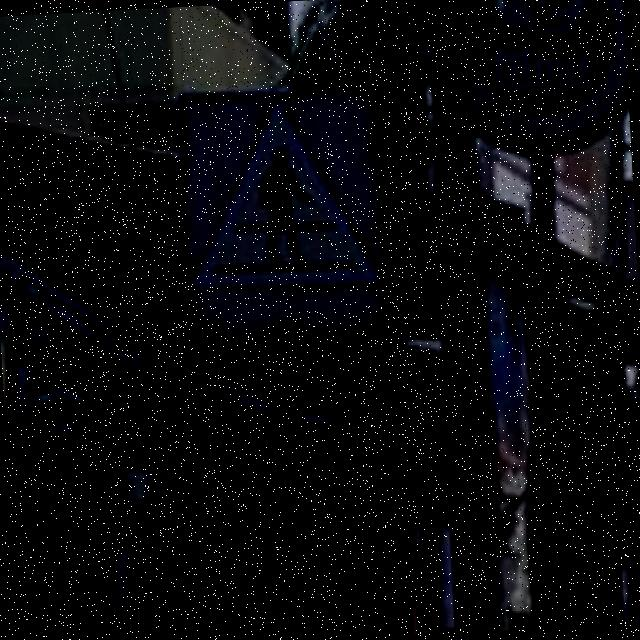Przejscie dla pieszych: (179, 84, 396, 343)
